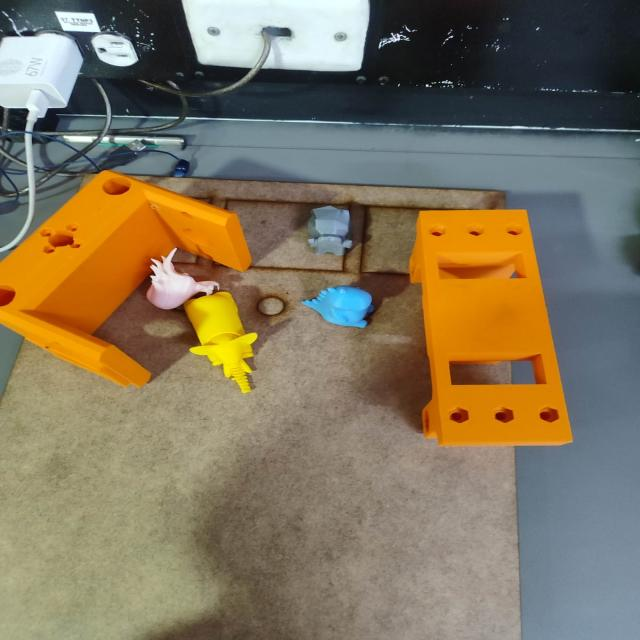DINO: (300, 267, 390, 333)
